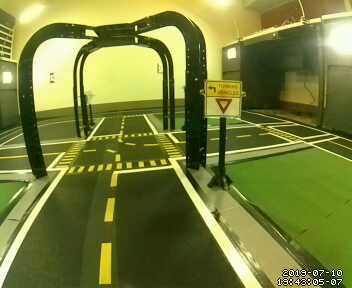Turn Yield: (203, 79, 243, 118)
